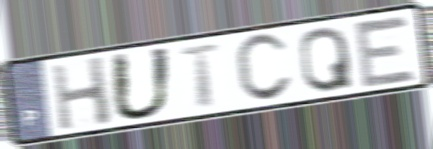C: (232, 31, 296, 105)
E: (351, 13, 421, 90)
H: (47, 53, 115, 133)
Q: (297, 24, 356, 95)
T: (177, 41, 226, 110)
U: (108, 45, 175, 123)
